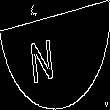N_N: (41, 26, 69, 84)
